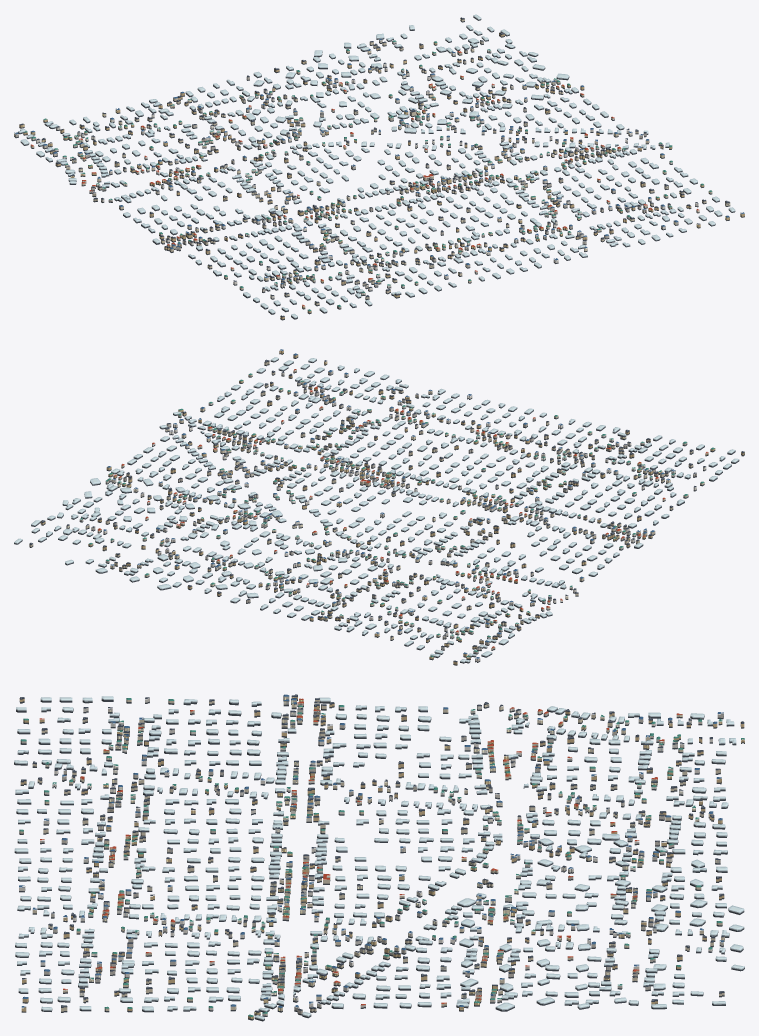
Rendered from osm_buildings_T_E02_N00.glb.
3 renders of one model, top to bottom at view 1: azimuth 30°, elevation 25°; view 2: azimuth 150°, elevation 25°; view 3: azimuth 270°, elevation 25°, orthographic. The views are drawn at different scales.
Visible parts, largest first — view 1: OSM_T_E02_N00_greenhouse_blend, OSM_T_E02_N00_foundation, OSM_T_E02_N00_wall_cream_stucco, OSM_T_E02_N00_wall_french_ochre, OSM_T_E02_N00_roof_mansard_slate, OSM_T_E02_N00_wall_pastel_sand, OSM_T_E02_N00_wall_warm_white, OSM_T_E02_N00_roof_mint_metal, OSM_T_E02_N00_roof_alpine_blue, OSM_T_E02_N00_roof_mansard_deck, OSM_T_E02_N00_roof_terracotta; view 2: OSM_T_E02_N00_greenhouse_blend, OSM_T_E02_N00_foundation, OSM_T_E02_N00_wall_cream_stucco, OSM_T_E02_N00_wall_french_ochre, OSM_T_E02_N00_roof_mansard_slate, OSM_T_E02_N00_wall_pastel_sand, OSM_T_E02_N00_wall_warm_white, OSM_T_E02_N00_roof_mint_metal, OSM_T_E02_N00_roof_alpine_blue, OSM_T_E02_N00_roof_mansard_deck, OSM_T_E02_N00_roof_terracotta; view 3: OSM_T_E02_N00_greenhouse_blend, OSM_T_E02_N00_foundation, OSM_T_E02_N00_wall_cream_stucco, OSM_T_E02_N00_wall_french_ochre, OSM_T_E02_N00_roof_mansard_slate, OSM_T_E02_N00_wall_pastel_sand, OSM_T_E02_N00_wall_warm_white, OSM_T_E02_N00_roof_mint_metal, OSM_T_E02_N00_roof_alpine_blue, OSM_T_E02_N00_roof_mansard_deck, OSM_T_E02_N00_roof_terracotta.
Boxes of the visible parts, x1,y1,x2,y2 form: OSM_T_E02_N00_greenhouse_blend: (18,14,735,318); OSM_T_E02_N00_foundation: (14,16,744,320); OSM_T_E02_N00_wall_cream_stucco: (30,18,730,304); OSM_T_E02_N00_wall_french_ochre: (19,33,744,319); OSM_T_E02_N00_roof_mansard_slate: (19,18,729,317); OSM_T_E02_N00_wall_pastel_sand: (14,39,678,308); OSM_T_E02_N00_wall_warm_white: (36,41,698,298); OSM_T_E02_N00_roof_mint_metal: (24,40,712,311); OSM_T_E02_N00_roof_alpine_blue: (14,38,744,284); OSM_T_E02_N00_roof_mansard_deck: (42,17,729,316); OSM_T_E02_N00_roof_terracotta: (31,51,698,306); OSM_T_E02_N00_greenhouse_blend: (14,357,739,662); OSM_T_E02_N00_foundation: (14,353,744,665); OSM_T_E02_N00_wall_cream_stucco: (29,361,704,649); OSM_T_E02_N00_wall_french_ochre: (40,350,744,664); OSM_T_E02_N00_roof_mansard_slate: (29,360,744,662); OSM_T_E02_N00_wall_pastel_sand: (66,371,696,661); OSM_T_E02_N00_wall_warm_white: (103,372,706,650); OSM_T_E02_N00_roof_mint_metal: (80,373,714,657); OSM_T_E02_N00_roof_alpine_blue: (103,349,675,659); OSM_T_E02_N00_roof_mansard_deck: (30,359,743,645); OSM_T_E02_N00_roof_terracotta: (98,369,708,648); OSM_T_E02_N00_greenhouse_blend: (14,696,744,1019); OSM_T_E02_N00_foundation: (14,699,744,1021); OSM_T_E02_N00_wall_cream_stucco: (19,696,724,1011); OSM_T_E02_N00_wall_french_ochre: (19,697,744,1019); OSM_T_E02_N00_roof_mansard_slate: (19,695,744,1012); OSM_T_E02_N00_wall_pastel_sand: (20,701,723,1015); OSM_T_E02_N00_wall_warm_white: (19,698,712,1010); OSM_T_E02_N00_roof_mint_metal: (19,698,744,1016); OSM_T_E02_N00_roof_alpine_blue: (19,694,723,1007); OSM_T_E02_N00_roof_mansard_deck: (20,694,723,1011); OSM_T_E02_N00_roof_terracotta: (39,698,682,1005).
Size of the model in its own units: 1983 by 62.58 by 1941.
